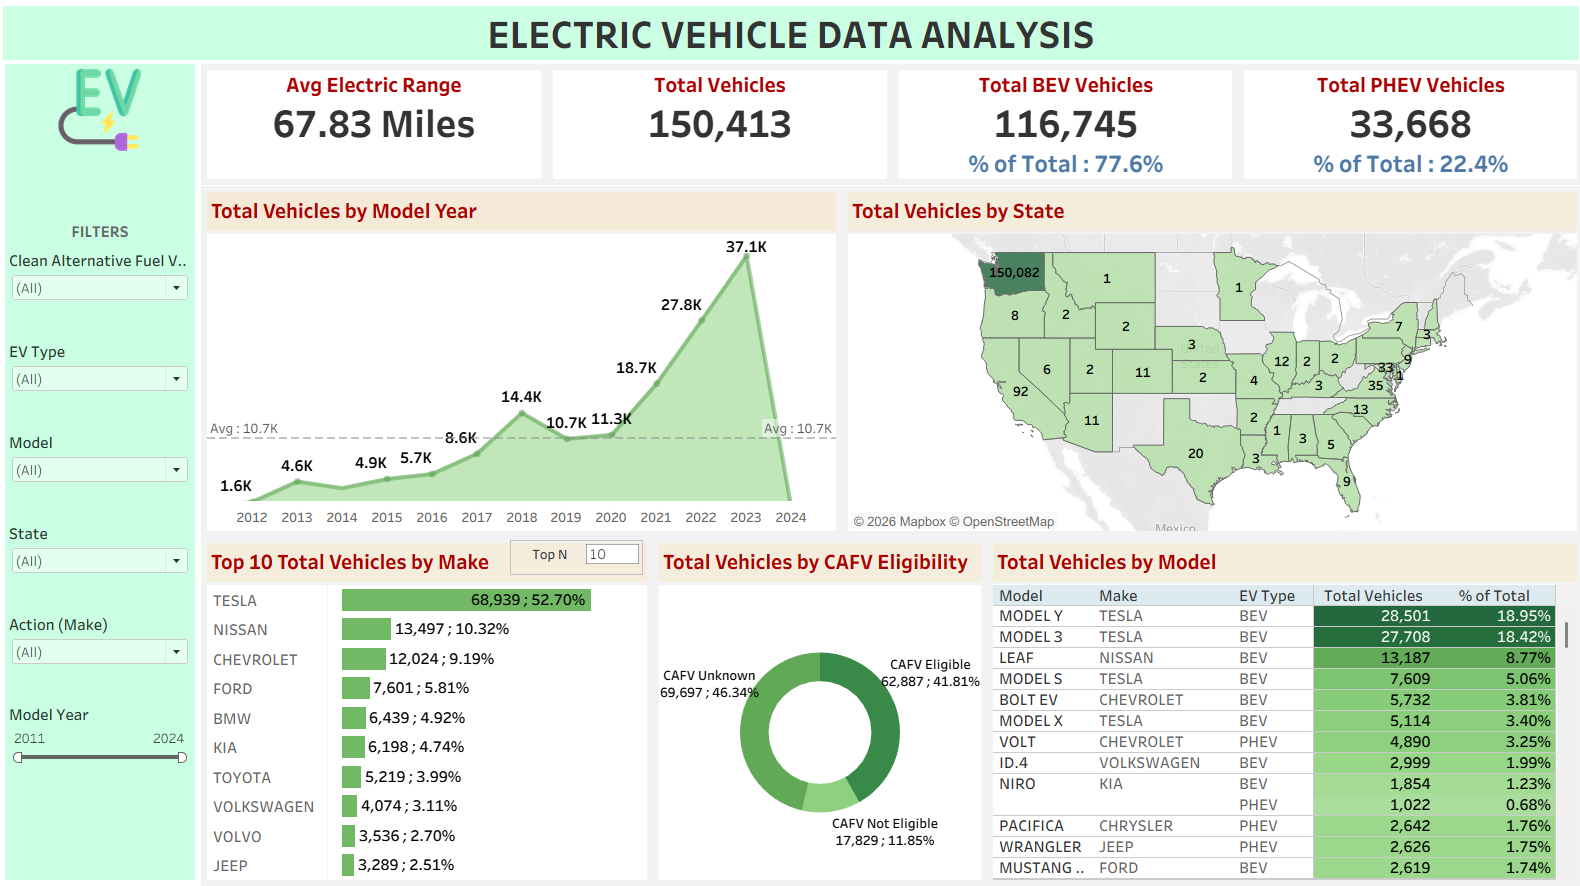

The dashboard page shown, as its layout file describes it:
{"tool":"tableau","page":{"name":"Dashboard 1","canvas":[1600,900],"ordinal":0},"visuals":[{"type":"title","box":[8,8,1584,62]},{"type":"image","param":"C:/Users/saith/Documents/Downloads/Tableau/logo1.png","box":[14,70,190,91]},{"type":"worksheet","title":"Avg Electric Range","mark":"Automatic","box":[210,70,346,121]},{"type":"worksheet","title":"Total Vehicles","mark":"Automatic","box":[556,70,346,121]},{"type":"worksheet","title":"Total BEV Vehicles","mark":"Automatic","box":[902,70,345,121]},{"type":"worksheet","title":"Total PHEV Vehicles","mark":"Automatic","box":[1247,70,345,121]},{"type":"text","box":[14,161,190,91]},{"type":"worksheet","title":"Total Vehicles by Model Year","mark":"Area","rows":["Calculation_1293626613379072","Calculation_1293626613379072"],"cols":["Model Year"],"box":[210,192,641,351]},{"type":"worksheet","title":"Total Vehicles by State","mark":"Multipolygon","box":[851,192,741,351]},{"type":"filter","title":"Total Vehicles by Model Year","param":"[federated.0jwq3li01fbkav10c28fq0dlle2b].[none:Clean Alternative Fuel Vehicle (C","box":[14,252,190,91]},{"type":"filter","title":"Total Vehicles by Model Year","param":"[federated.0jwq3li01fbkav10c28fq0dlle2b].[none:Electric Vehicle Type:nk]","box":[14,343,190,91]},{"type":"filter","title":"Total Vehicles by Model Year","param":"[federated.0jwq3li01fbkav10c28fq0dlle2b].[none:Model:nk]","box":[14,434,190,91]},{"type":"filter","title":"Total Vehicles by Model Year","param":"[federated.0jwq3li01fbkav10c28fq0dlle2b].[none:State:nk]","box":[14,525,190,91]},{"type":"worksheet","title":"Top 10 Total Vehicles by Make","mark":"Automatic","rows":["Make"],"cols":["Calculation_1293626613379072"],"box":[210,543,452,349]},{"type":"worksheet","title":"Total Vehicles by CAFV Eligibility","mark":"Pie","rows":["Calculation_1000332111826945","Calculation_1000332111826945"],"box":[662,543,334,349]},{"type":"worksheet","title":"Total Vehicles by Model","mark":"Square","rows":["Model","Make","Electric Vehicle Type"],"box":[996,543,596,349]},{"type":"parameter","param":"[Parameters].[Parameter 1]","box":[519,546,133,35]},{"type":"filter","title":"Total Vehicles by Model Year","param":"[federated.0jwq3li01fbkav10c28fq0dlle2b].[Action (Make)]","box":[14,616,190,90]},{"type":"filter","title":"Total Vehicles by Model Year","param":"[federated.0jwq3li01fbkav10c28fq0dlle2b].[none:Model Year:qk]","box":[14,706,190,90]},{"type":"blank","box":[14,796,190,90]}]}

Visuals, with their boxes in screenshot pixels (x1, y1, x2, y2), scaled from the page's 1600x900 canvas onto the 1580x886 screenshot:
title: (8,8,1572,69)
image: (14,69,201,158)
"Avg Electric Range" worksheet: (207,69,549,188)
"Total Vehicles" worksheet: (549,69,891,188)
"Total BEV Vehicles" worksheet: (891,69,1231,188)
"Total PHEV Vehicles" worksheet: (1231,69,1572,188)
text: (14,158,201,248)
"Total Vehicles by Model Year" worksheet (Area marks): (207,189,840,535)
"Total Vehicles by State" worksheet (Multipolygon marks): (840,189,1572,535)
"Total Vehicles by Model Year" filter: (14,248,201,338)
"Total Vehicles by Model Year" filter: (14,338,201,427)
"Total Vehicles by Model Year" filter: (14,427,201,517)
"Total Vehicles by Model Year" filter: (14,517,201,606)
"Top 10 Total Vehicles by Make" worksheet: (207,535,654,878)
"Total Vehicles by CAFV Eligibility" worksheet (Pie marks): (654,535,984,878)
"Total Vehicles by Model" worksheet (Square marks): (984,535,1572,878)
parameter: (513,538,644,572)
"Total Vehicles by Model Year" filter: (14,606,201,695)
"Total Vehicles by Model Year" filter: (14,695,201,784)
blank: (14,784,201,872)
